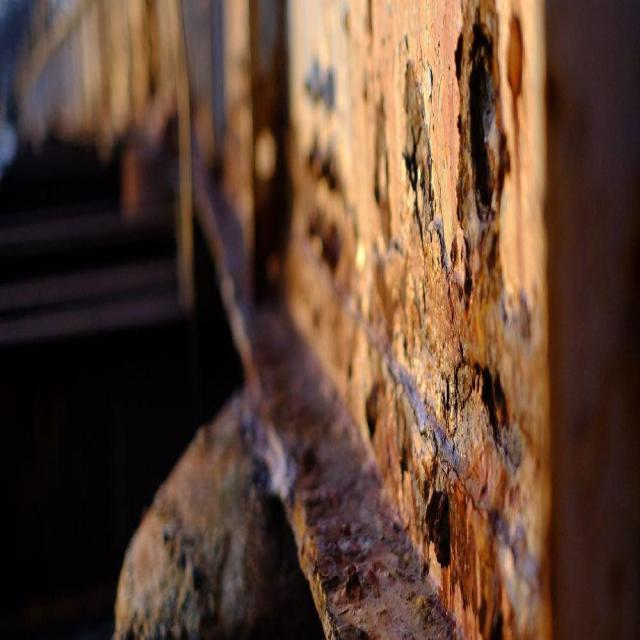non-corrosion: (112, 0, 640, 640)
